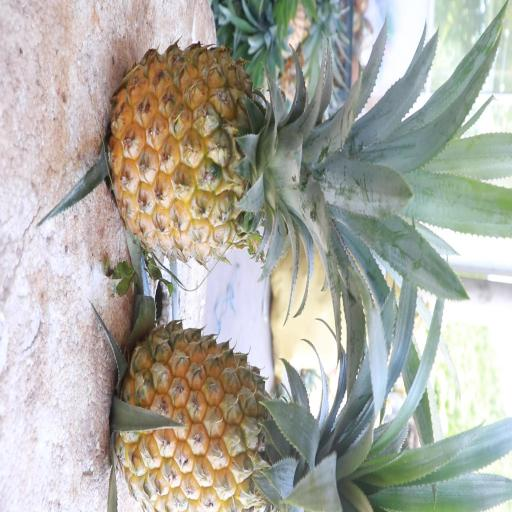Pineapple - v8 v1: (103, 36, 337, 273), (108, 314, 346, 512)
